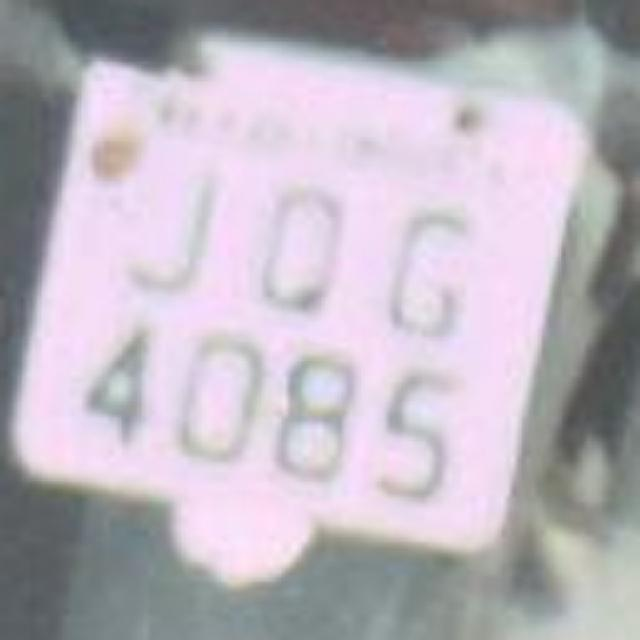0: (156, 295, 276, 480)
4: (56, 280, 172, 468)
5: (352, 332, 476, 508)
8: (256, 312, 369, 500)
J: (96, 140, 232, 305)
O: (240, 152, 365, 328)
